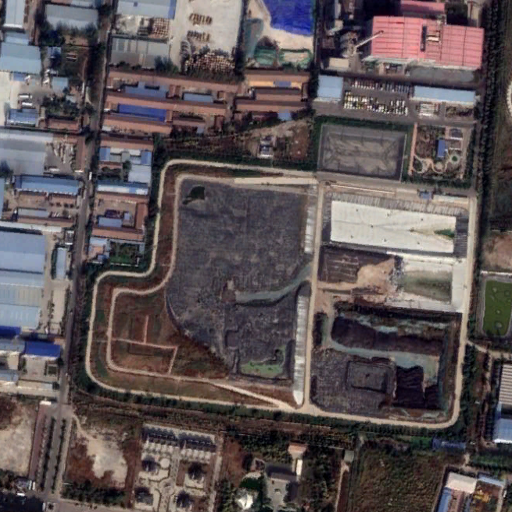lf: (87, 160, 467, 426)
